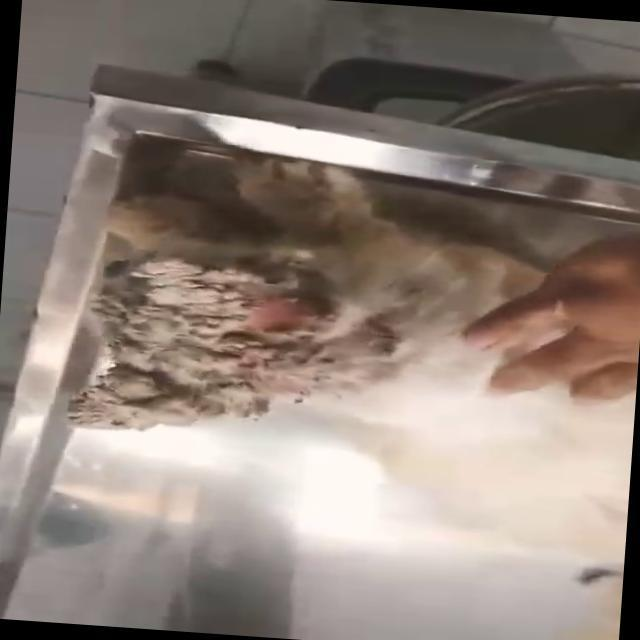ghe: (136, 260, 334, 399)
